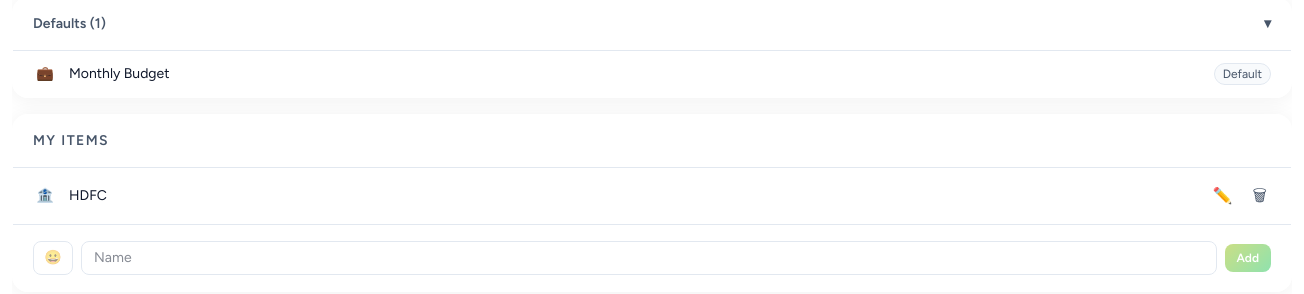
Test case: BudgetDataTab — My Items (edit) › shows edit form when edit button is clicked
The image size is (1304, 294).
Step 1. Click the button named "edit hdfc" → (1223, 196), box x1=1209 y1=180 x2=1237 y2=212
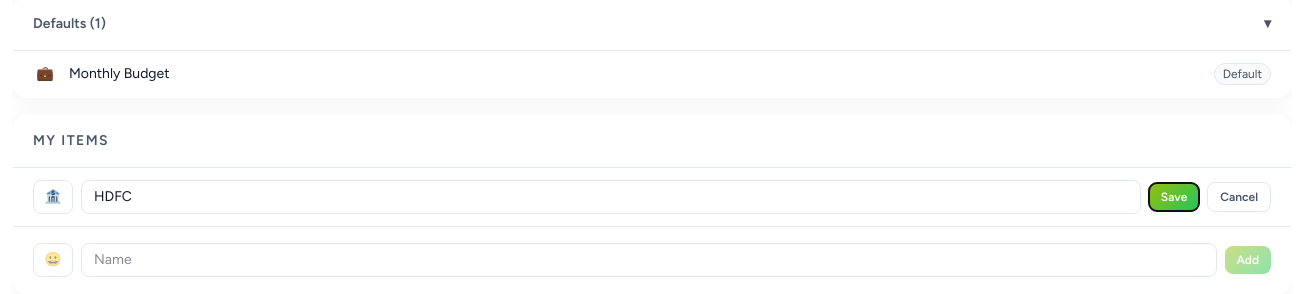
Expected: the field showing "HDFC" is shown, x1=81 y1=180 x2=1141 y2=214
